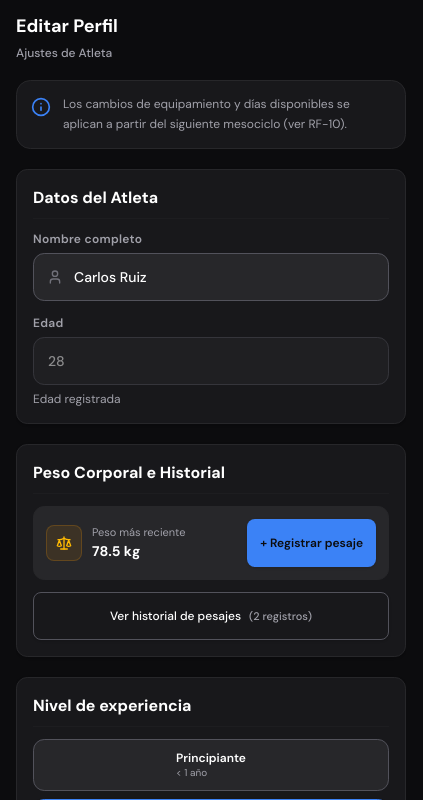
Test: TASK-38: ProfilePage.tsx — Weight Tracking & Availability Change Warning (RF-01, RF-02, RF-09, Constitución Art. 2) › Módulo de Peso Corporal e Historial (RF-01, RF-02) › should expand and display WeightHistoryList with past logs and deltas
This screenshot has width=423, height=800.
Check: the text "(2 registros)" is shown, box x1=249 y1=609 x2=312 y2=623
Click the button "Ver historial de pesajes (2 registros)": coordinates (211, 616) x1=33 y1=592 x2=389 y2=640
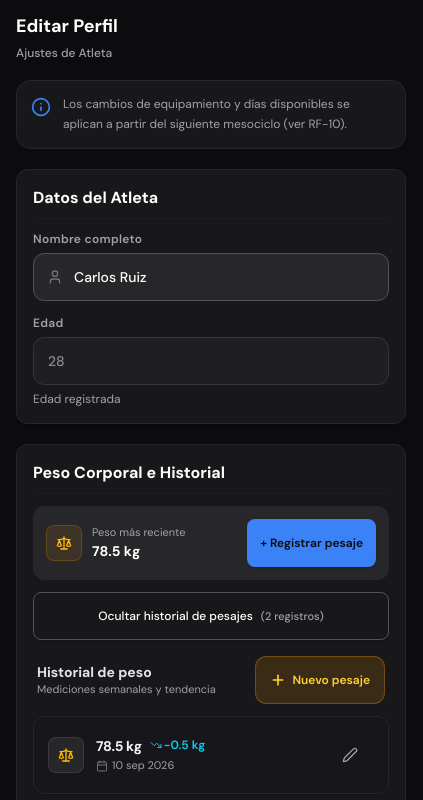
Check: the text "78.5 kg" next to "-0.5" is shown, box x1=96 y1=736 x2=142 y2=756
Check: the text "-0.5 kg" is shown, box x1=164 y1=737 x2=205 y2=753
